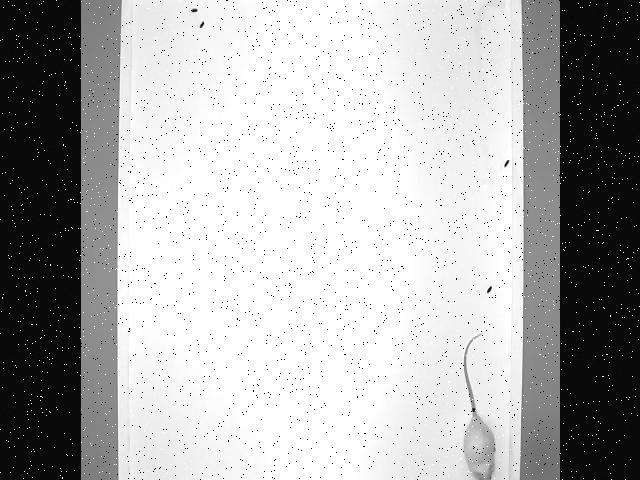Tikus: (459, 330, 497, 480)
